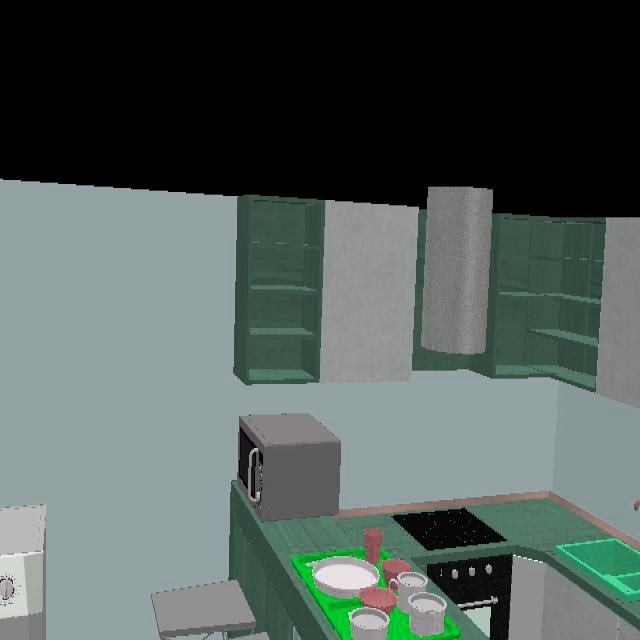cabinet: (234, 187, 640, 408)
countertop: (239, 492, 640, 640)
microwave: (236, 413, 343, 524)
oven: (425, 552, 519, 640)
sink: (503, 539, 640, 632)
stove: (388, 507, 509, 557)
